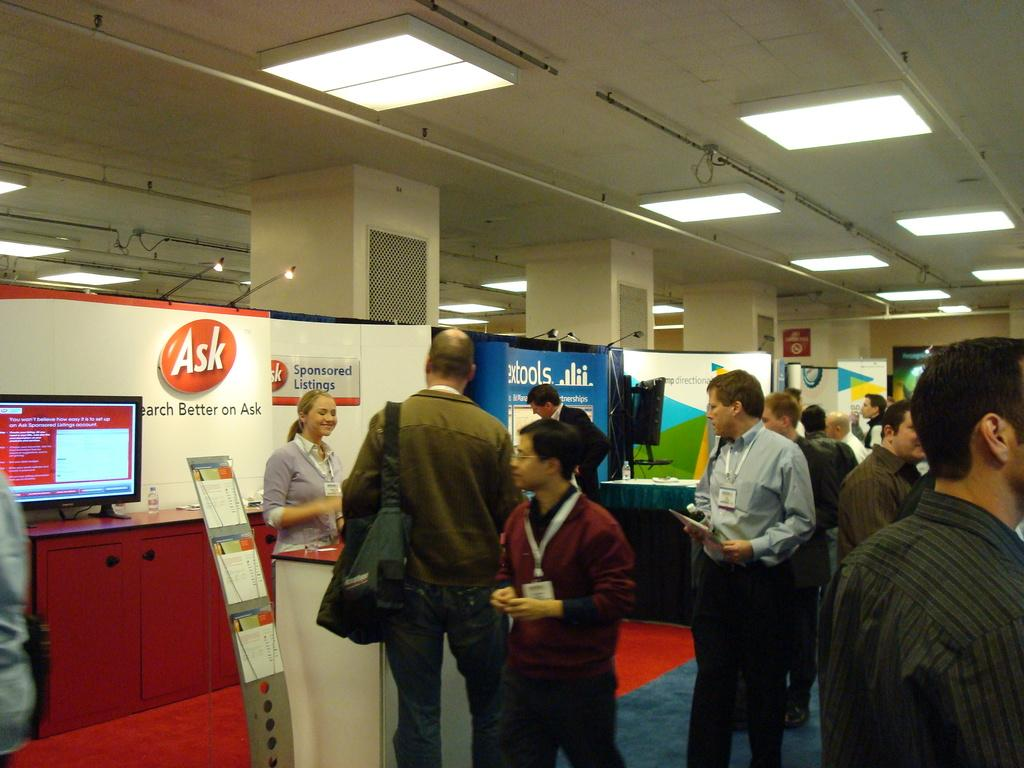Computer-monitor: (0, 390, 145, 519)
